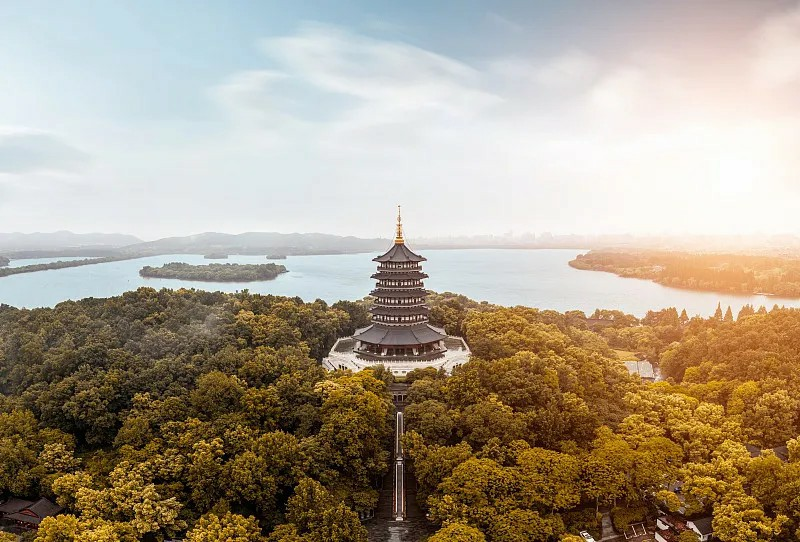Leifeng: (352, 200, 448, 362)
